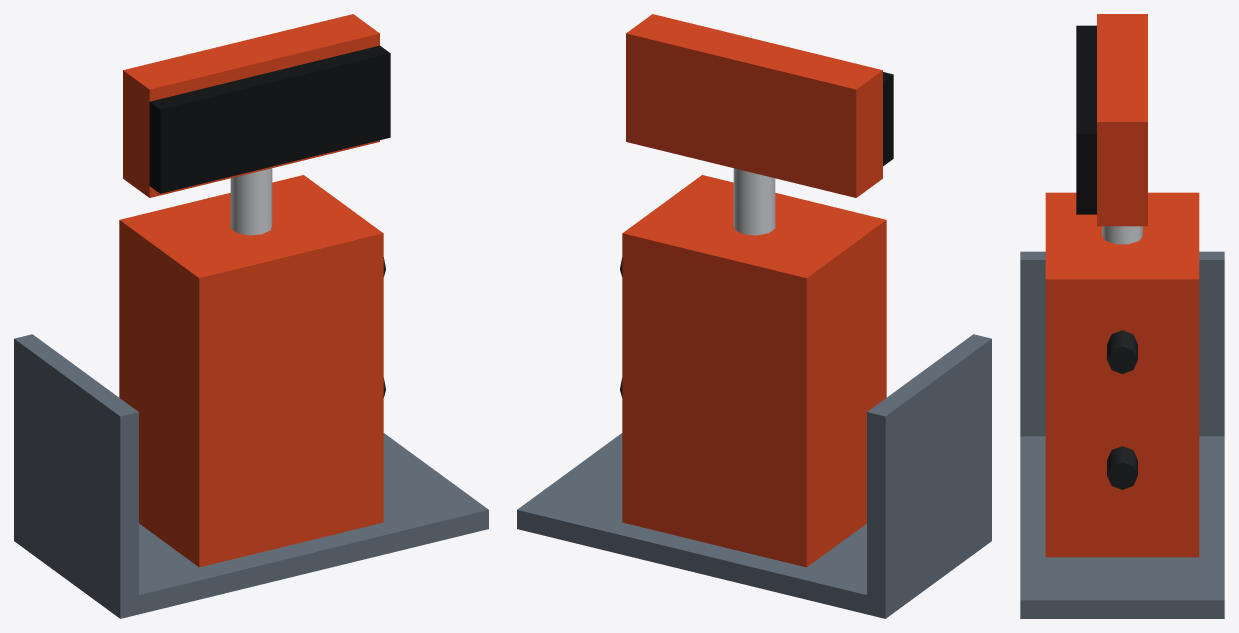
File: conveyor_stopper.glb
3 views of the same model, side by side, from view 1: azimuth 30°, elevation 25°; view 2: azimuth 150°, elevation 25°; view 3: azimuth 270°, elevation 25° (orthographic). The views are drawn at different scales.
Visible parts, largest first — view 1: Conveyor_Stopper_orange_red, Conveyor_Stopper_alu_dark, Stopper_Blade_rubber, Stopper_Blade_orange_red, Stopper_Blade_steel_bright; view 2: Conveyor_Stopper_orange_red, Conveyor_Stopper_alu_dark, Stopper_Blade_orange_red, Stopper_Blade_steel_bright, Stopper_Blade_rubber; view 3: Conveyor_Stopper_orange_red, Conveyor_Stopper_alu_dark, Stopper_Blade_orange_red, Stopper_Blade_rubber, Conveyor_Stopper_black_paint, Stopper_Blade_steel_bright.
Boxes of the visible parts, x1,y1,x2,y2 form: Conveyor_Stopper_orange_red: (119,175,383,567); Conveyor_Stopper_alu_dark: (14,334,488,618); Stopper_Blade_rubber: (149,45,390,193); Stopper_Blade_orange_red: (123,14,379,197); Stopper_Blade_steel_bright: (230,168,272,235); Conveyor_Stopper_orange_red: (622,175,886,567); Conveyor_Stopper_alu_dark: (517,334,991,618); Stopper_Blade_orange_red: (626,14,882,197); Stopper_Blade_steel_bright: (733,168,775,235); Stopper_Blade_rubber: (883,72,893,166); Conveyor_Stopper_orange_red: (1045,192,1199,557); Conveyor_Stopper_alu_dark: (1020,251,1224,618); Stopper_Blade_orange_red: (1097,14,1147,226); Stopper_Blade_rubber: (1076,25,1096,214); Conveyor_Stopper_black_paint: (1107,330,1137,489); Stopper_Blade_steel_bright: (1102,226,1142,244).
Size of the model in its own units: 0.16 by 0.2005 by 0.08.
